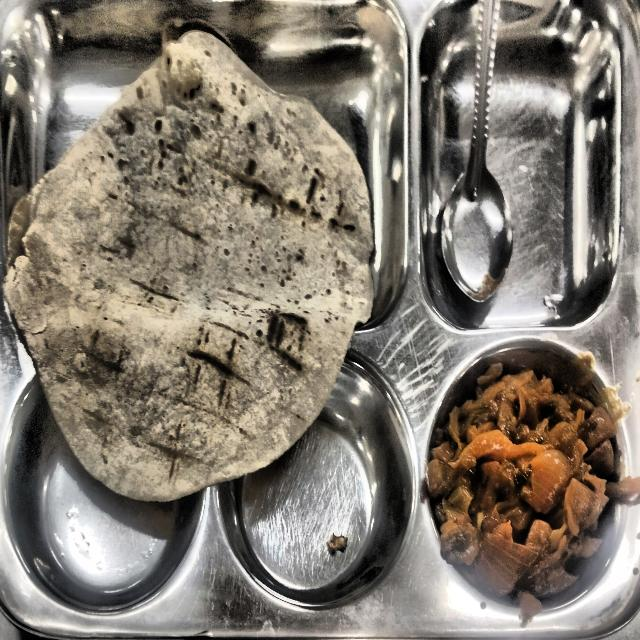Mushroom: (441, 359, 616, 596)
Roti: (54, 64, 372, 482)
